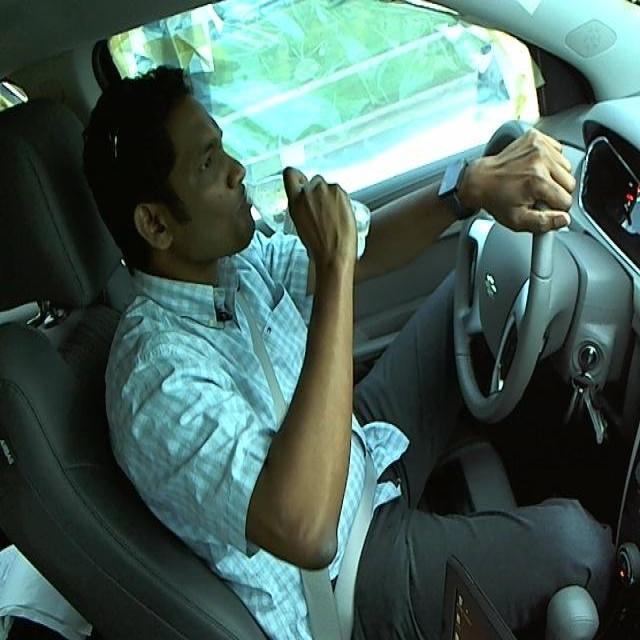Seatbelt: (239, 173, 369, 251)
